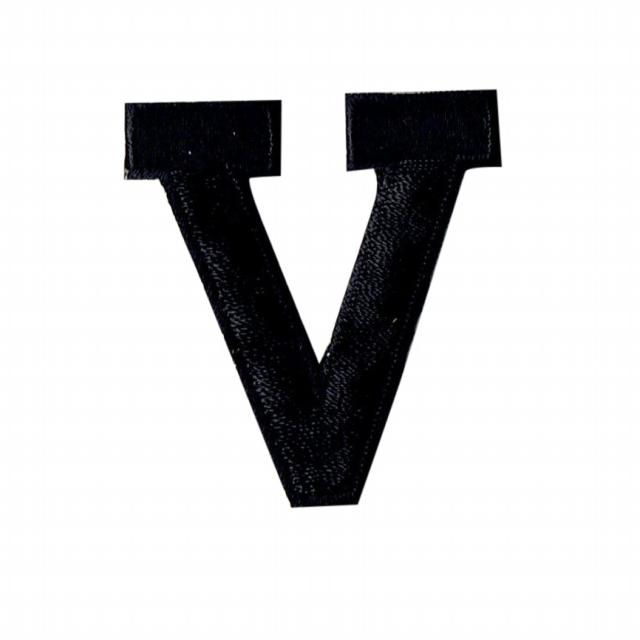V: (56, 38, 518, 540)
